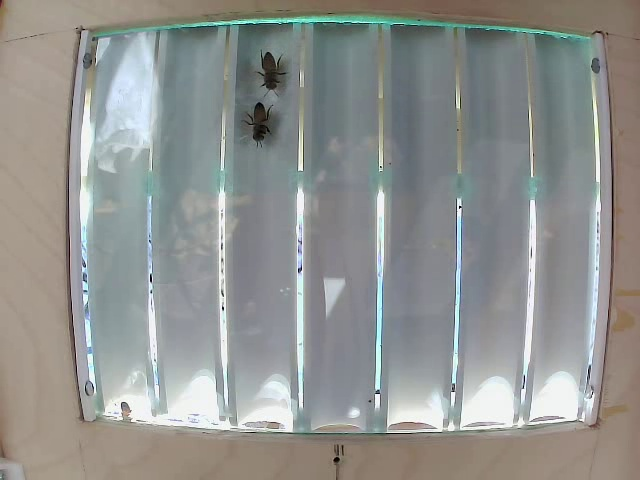bee: (245, 103, 288, 159), (254, 53, 288, 111)
